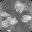people: (15, 1, 24, 14), (1, 19, 12, 28), (8, 16, 18, 25), (21, 14, 31, 22), (1, 11, 9, 18)
